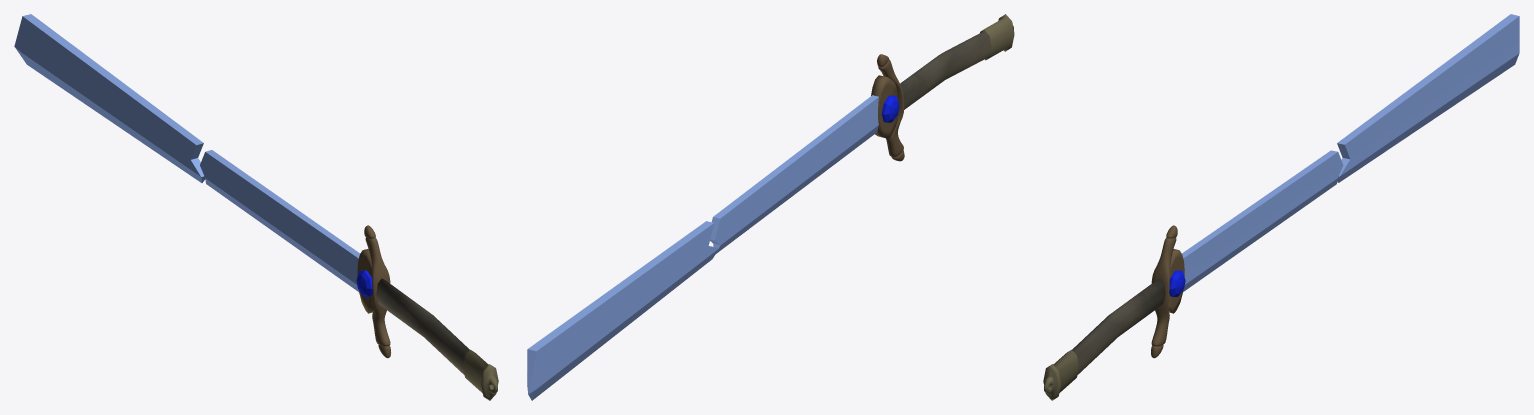
File: 壊れた幻光の剣.fbx
3 views of the same model, side by side, from view 1: azimuth 30°, elevation 25°; view 2: azimuth 150°, elevation 25°; view 3: azimuth 330°, elevation 25° (orthographic). The views are drawn at different scales.
Parts seen in each view (by area): view 1: Cube, 平面.001; view 2: Cube, 平面.001; view 3: Cube, 平面.001.
Boxes of the visible parts, x1=… form: Cube: x1=14, y1=14, x2=360, y2=291; 平面.001: x1=356, y1=225, x2=498, y2=400; Cube: x1=527, y1=95, x2=878, y2=400; 平面.001: x1=871, y1=14, x2=1014, y2=161; Cube: x1=1182, y1=14, x2=1519, y2=291; 平面.001: x1=1043, y1=225, x2=1185, y2=400.
Bounding box in the file's own units: 17.24 × 86.37 × 636.
